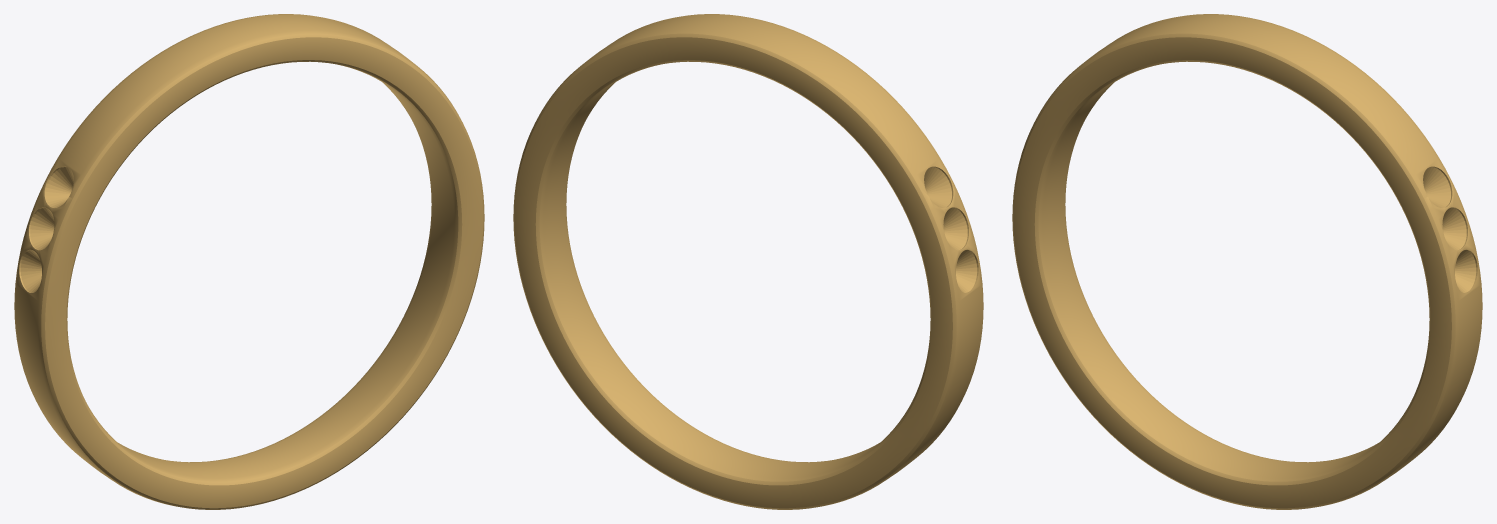
Rendered from soft-square-bar-wide.glb.
3 views of the same model, side by side, from view 1: azimuth 30°, elevation 25°; view 2: azimuth 150°, elevation 25°; view 3: azimuth 330°, elevation 25° (orthographic).
Parts seen in each view (by area): view 1: Band; view 2: Band; view 3: Band.
Boxes of the visible parts, bbox=[...] form: Band: bbox=[14, 14, 484, 509]; Band: bbox=[513, 14, 983, 509]; Band: bbox=[1012, 14, 1482, 509].
Size of the model in its own units: 19.6 by 19.6 by 2.3.
